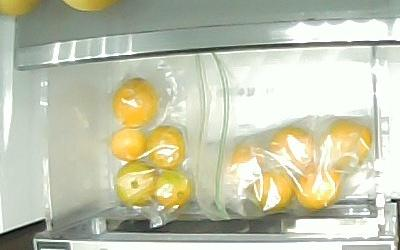tangerine_vinyl: (316, 117, 372, 168), (267, 126, 321, 176), (294, 160, 343, 211), (111, 76, 159, 127), (113, 159, 160, 207), (250, 169, 295, 211), (145, 123, 185, 169), (153, 167, 192, 208), (109, 126, 149, 161), (227, 142, 267, 174)
